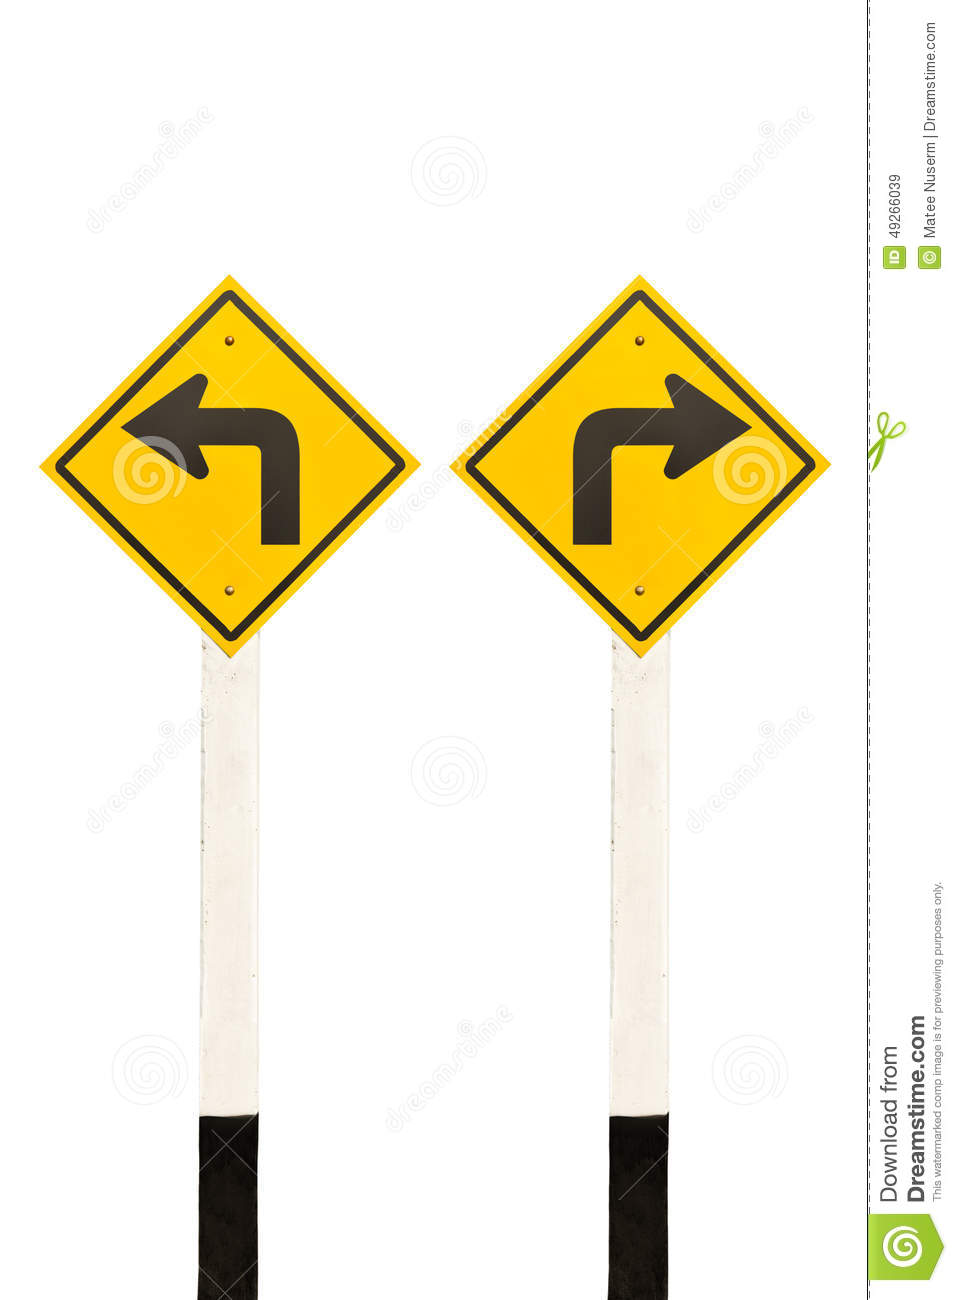left: (32, 265, 424, 659)
right: (448, 268, 840, 668)
